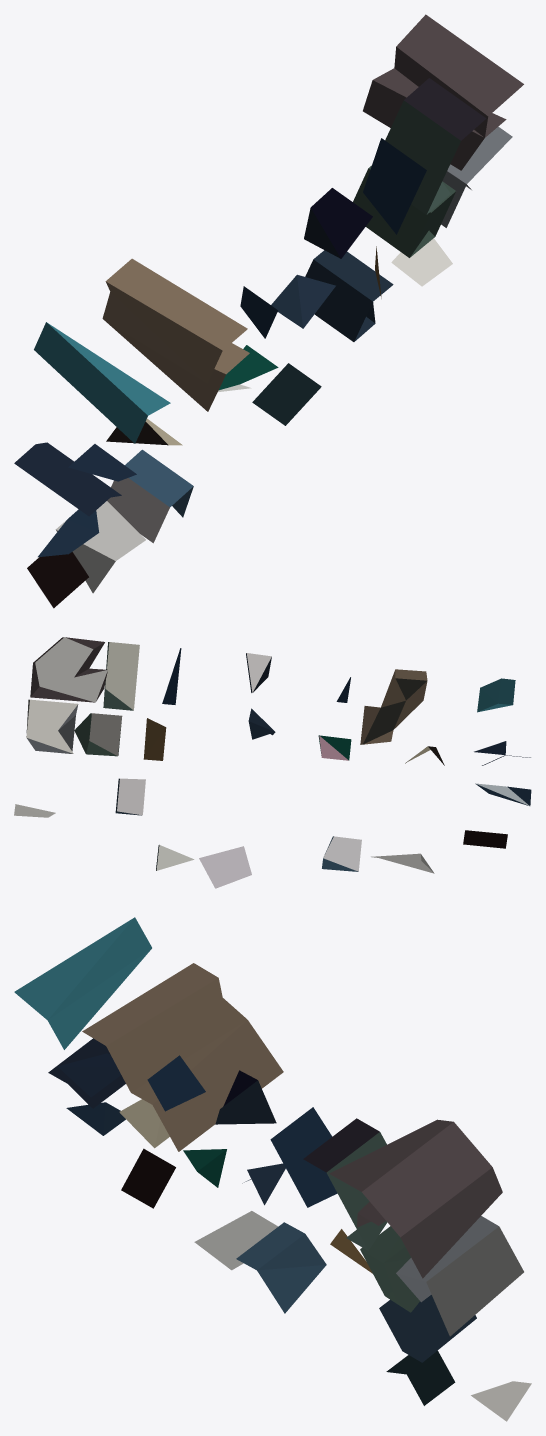
3 views of the same model, one above another, from view 1: azimuth 30°, elevation 25°; view 2: azimuth 150°, elevation 25°; view 3: azimuth 270°, elevation 25° (orthographic). The views are drawn at different scales.
Size of the model in its own units: 182 by 98.87 by 127.
